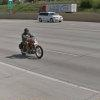Motorcycle: (13, 28, 58, 62)
